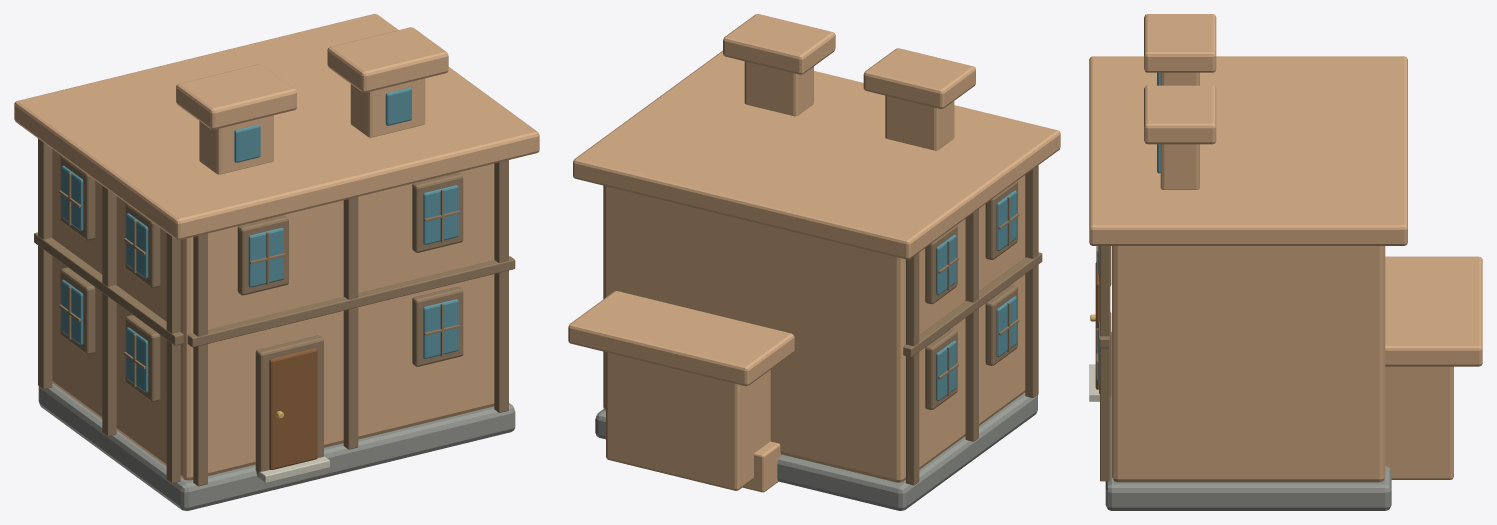
Rendered from arid-townhouse-3.glb.
3 renders of one model, left to right at view 1: azimuth 30°, elevation 25°; view 2: azimuth 150°, elevation 25°; view 3: azimuth 270°, elevation 25°, orthographic. The views are drawn at different scales.
Parts seen in each view (by area): view 1: Adobe cream, Palm beams, Foundation stone, Blue glass, Door oak, Cut limestone; view 2: Adobe cream, Adobe fieldstone, Palm beams, Foundation stone, Blue glass, Adobe wood; view 3: Adobe cream, Foundation stone, Adobe fieldstone, Palm beams.
Boxes of the visible parts, x1=… form: Adobe cream: x1=14, y1=14, x2=539, y2=480; Palm beams: x1=34, y1=138, x2=515, y2=486; Foundation stone: x1=38, y1=383, x2=515, y2=510; Blue glass: x1=61, y1=87, x2=458, y2=392; Door oak: x1=269, y1=348, x2=317, y2=469; Cut limestone: x1=254, y1=456, x2=329, y2=482; Adobe cream: x1=568, y1=14, x2=1060, y2=482; Adobe fieldstone: x1=606, y1=352, x2=770, y2=490; Palm beams: x1=903, y1=165, x2=1042, y2=485; Foundation stone: x1=595, y1=392, x2=1037, y2=510; Blue glass: x1=936, y1=190, x2=1016, y2=401; Adobe wood: x1=743, y1=441, x2=781, y2=492; Adobe cream: x1=1089, y1=14, x2=1482, y2=482; Foundation stone: x1=1105, y1=332, x2=1391, y2=510; Adobe fieldstone: x1=1385, y1=366, x2=1453, y2=479; Palm beams: x1=1096, y1=246, x2=1111, y2=481.
Bounding box in the file's own units: 3.94 × 3.91 × 3.82.
